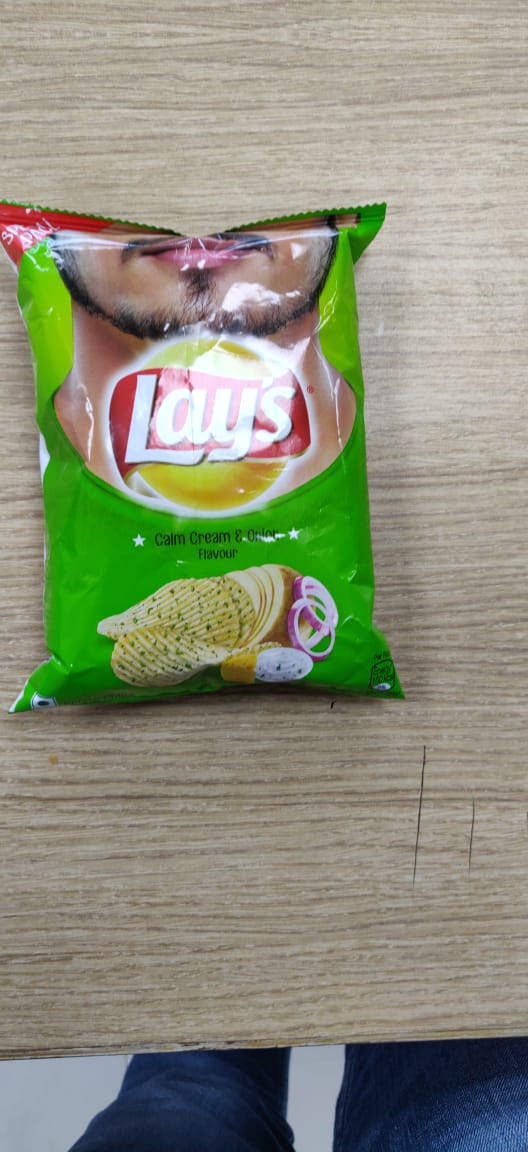lays chips: (3, 183, 429, 732)
